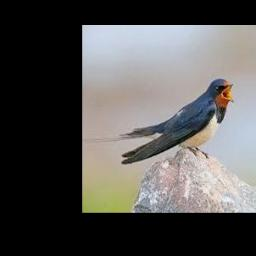Swallow: (120, 79, 234, 164)
